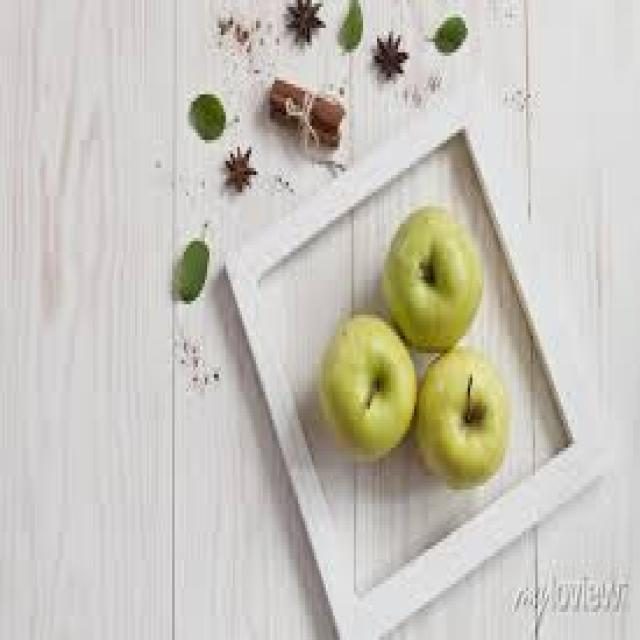non_orange: (311, 277, 421, 461), (375, 206, 484, 369), (420, 328, 520, 493)
